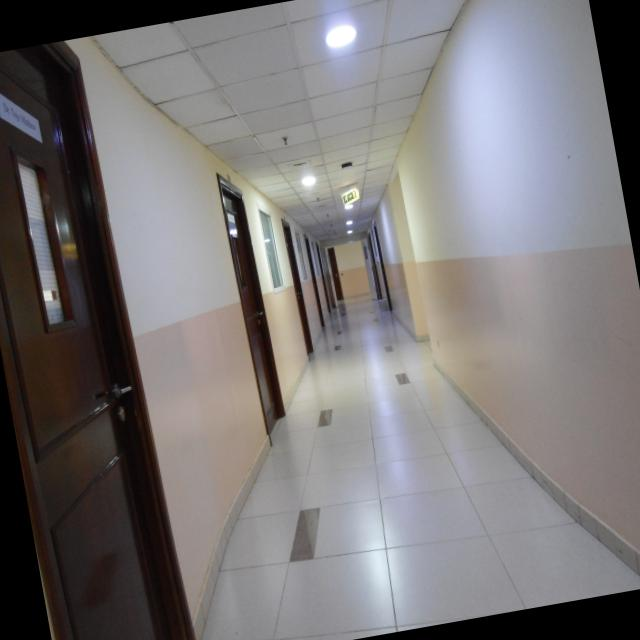door: (0, 36, 197, 640), (212, 162, 298, 454), (278, 206, 316, 364), (328, 226, 377, 318), (298, 232, 334, 334), (360, 225, 388, 308)
exitLight: (334, 182, 362, 212)
